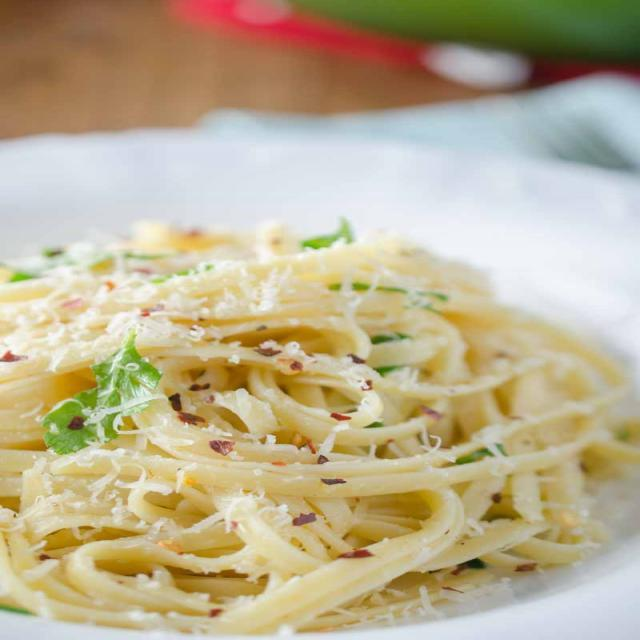Oil pasta: (17, 196, 640, 610)
